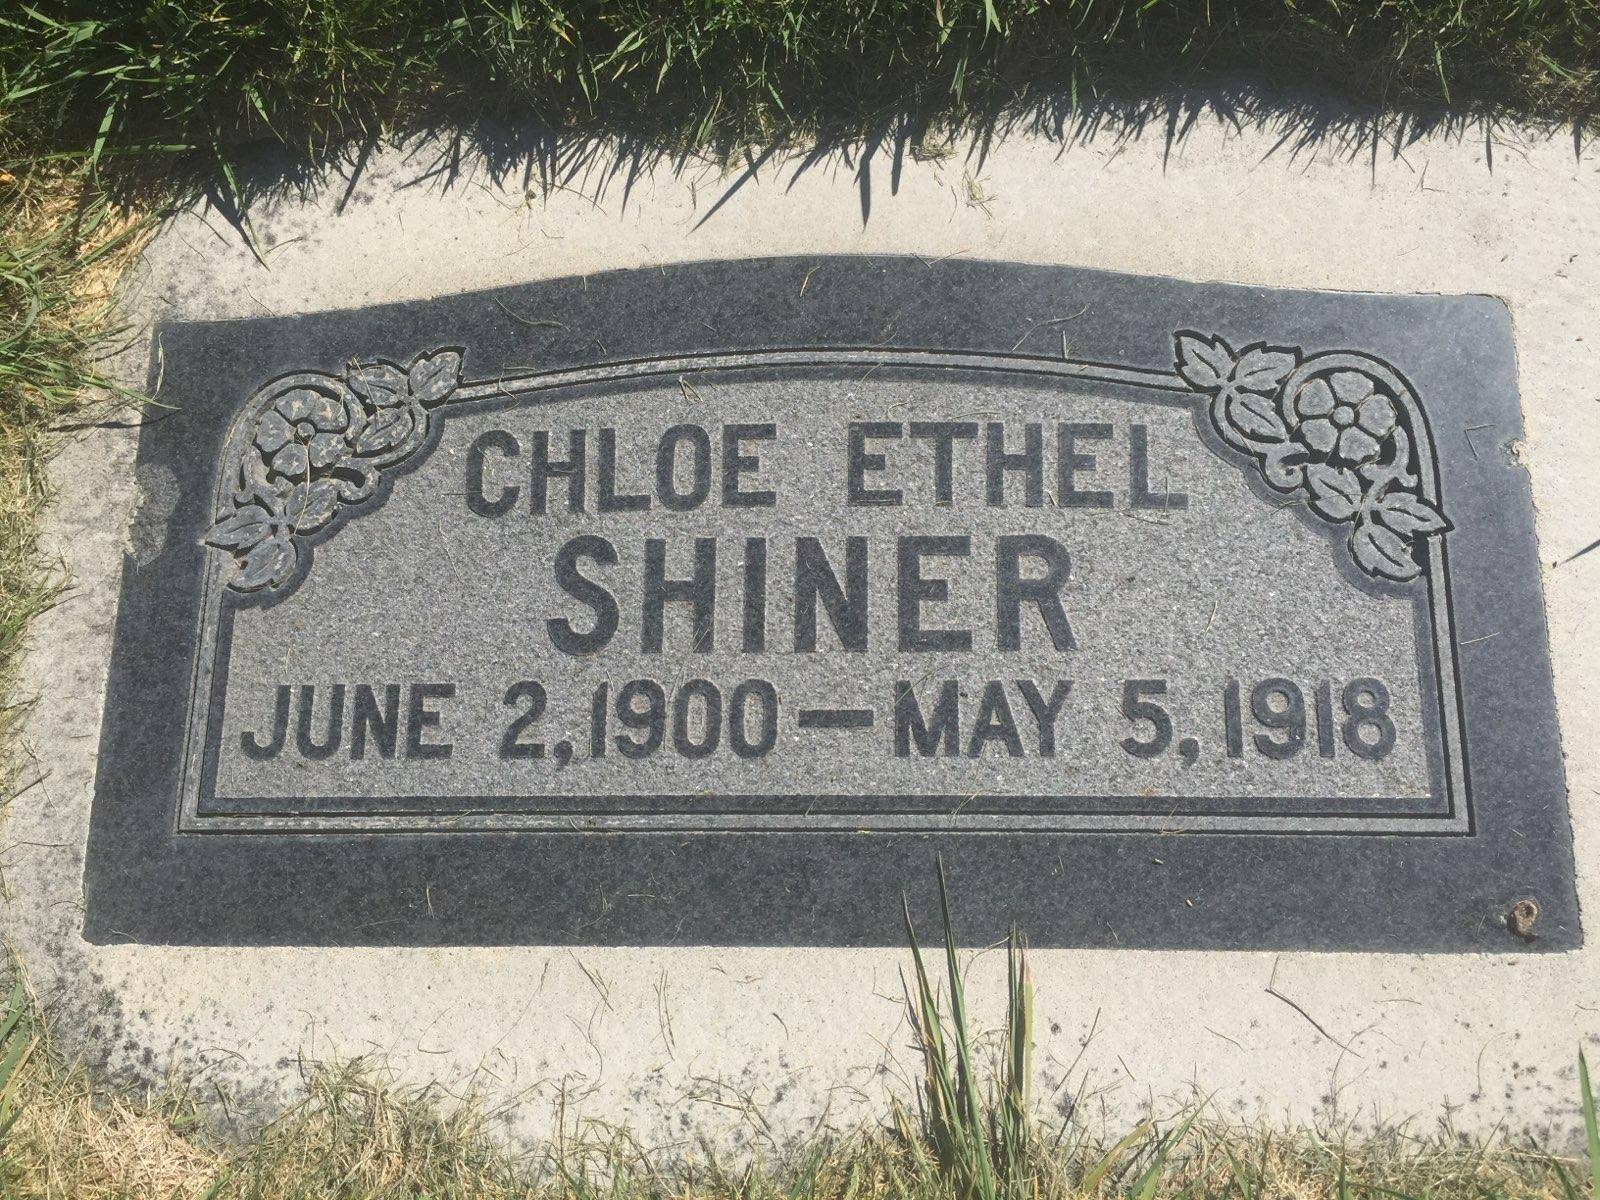flat: (83, 251, 1580, 952)
